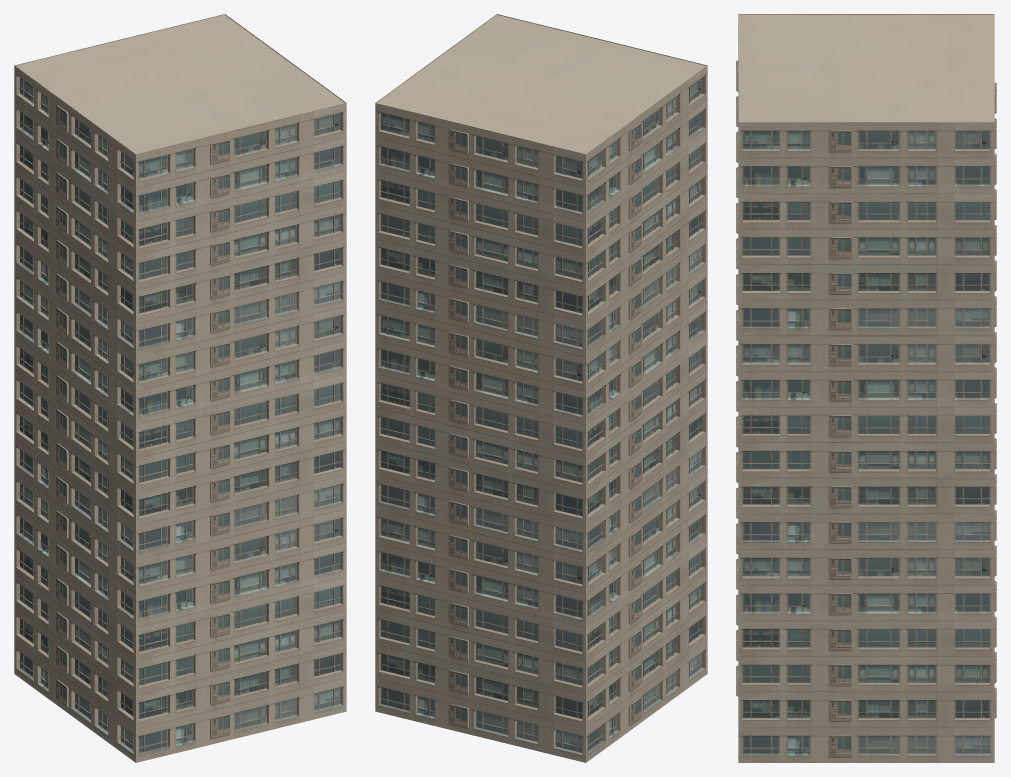
The model's file is building 6.fbx.
3 views of the same model, side by side, from view 1: azimuth 30°, elevation 25°; view 2: azimuth 150°, elevation 25°; view 3: azimuth 270°, elevation 25° (orthographic). The views are drawn at different scales.
Visible parts, largest first — view 1: Plane.001; view 2: Plane.001; view 3: Plane.001.
Boxes of the visible parts, x1=… form: Plane.001: x1=14, y1=14, x2=346, y2=762; Plane.001: x1=375, y1=14, x2=707, y2=762; Plane.001: x1=736, y1=14, x2=996, y2=762.
Bounding box in the file's own units: 110 × 300 × 110.
